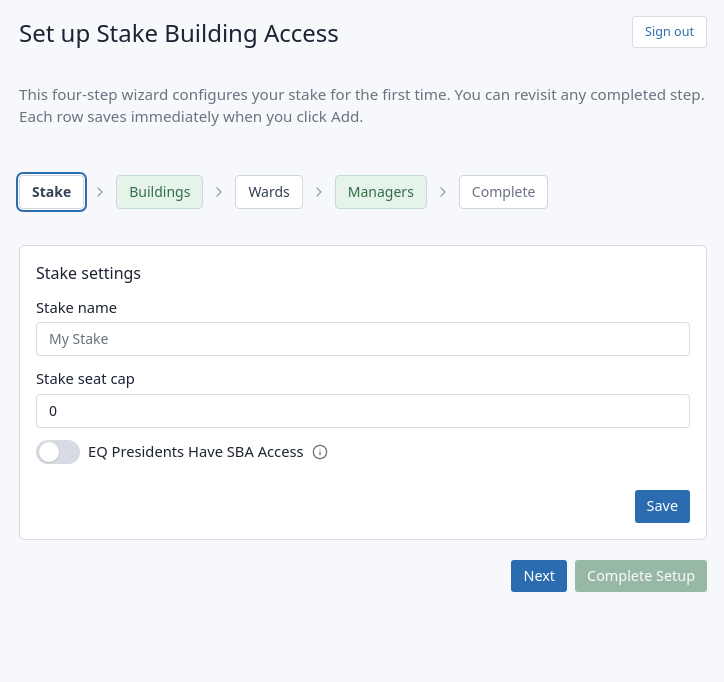
Test: <BootstrapWizardPage /> › keeps Add ward disabled with a stated reason while the wards snapshot is in flight
Click the tab with test id "wizard-step-tab-3". click: (269, 192)
box: [235,175,303,209]
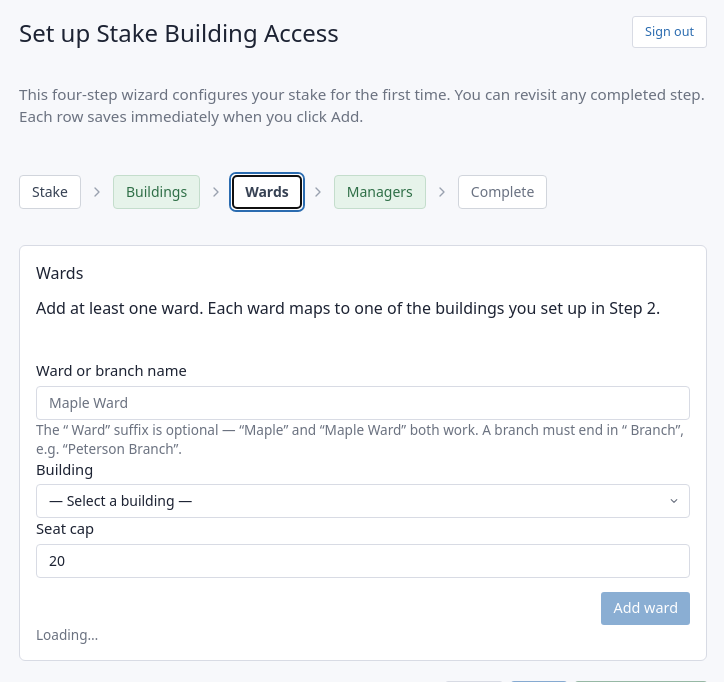
Result: the button with test id "bootstrap-ward-submit" is disabled at [602,592,690,624]
Result: the text with test id "bootstrap-ward-blocked-hint" reads "Loading…" at [36,624,98,644]
